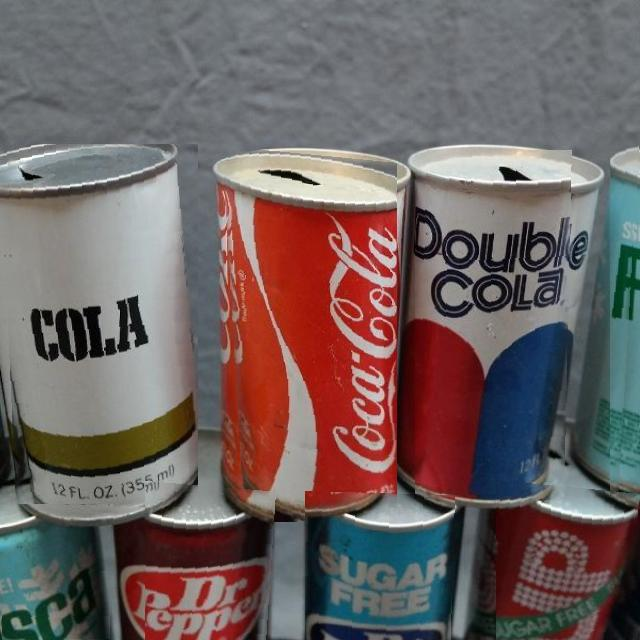Cans: (0, 144, 198, 517), (222, 146, 397, 522), (415, 150, 572, 498), (496, 480, 640, 640), (305, 491, 455, 640), (145, 481, 276, 640), (2, 504, 113, 640), (610, 133, 640, 516)
